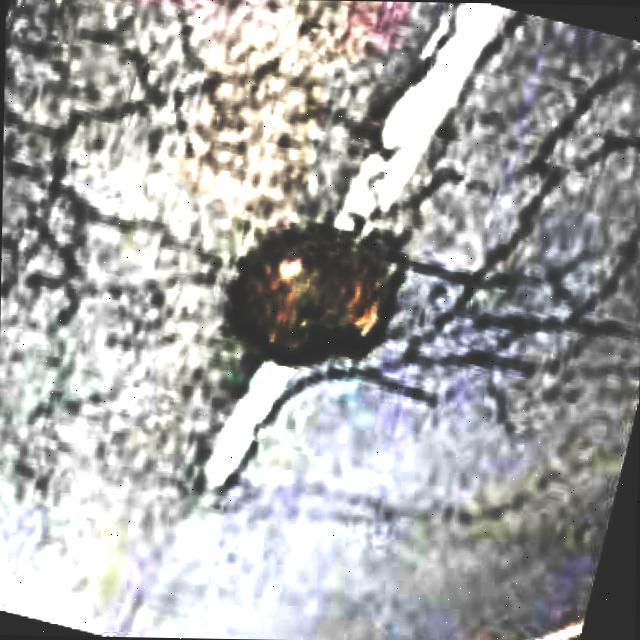pothole: (224, 206, 407, 369)
